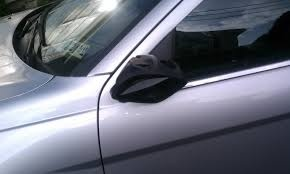Broken-glass: (110, 55, 186, 104)
